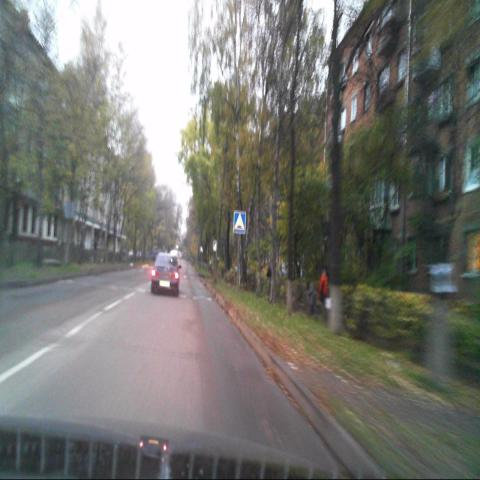5_20: (234, 211, 246, 234)
